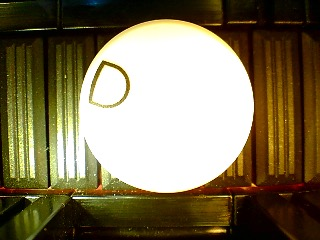MIPO1: (78, 19, 255, 194)
